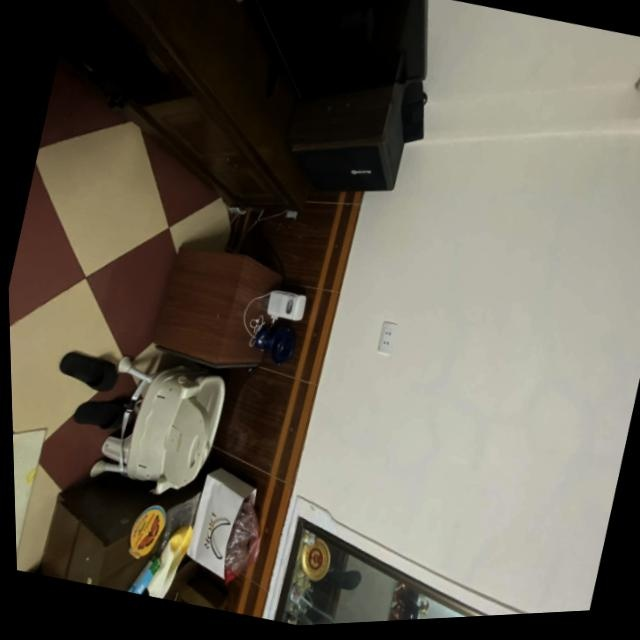outlet: (374, 319, 398, 356)
